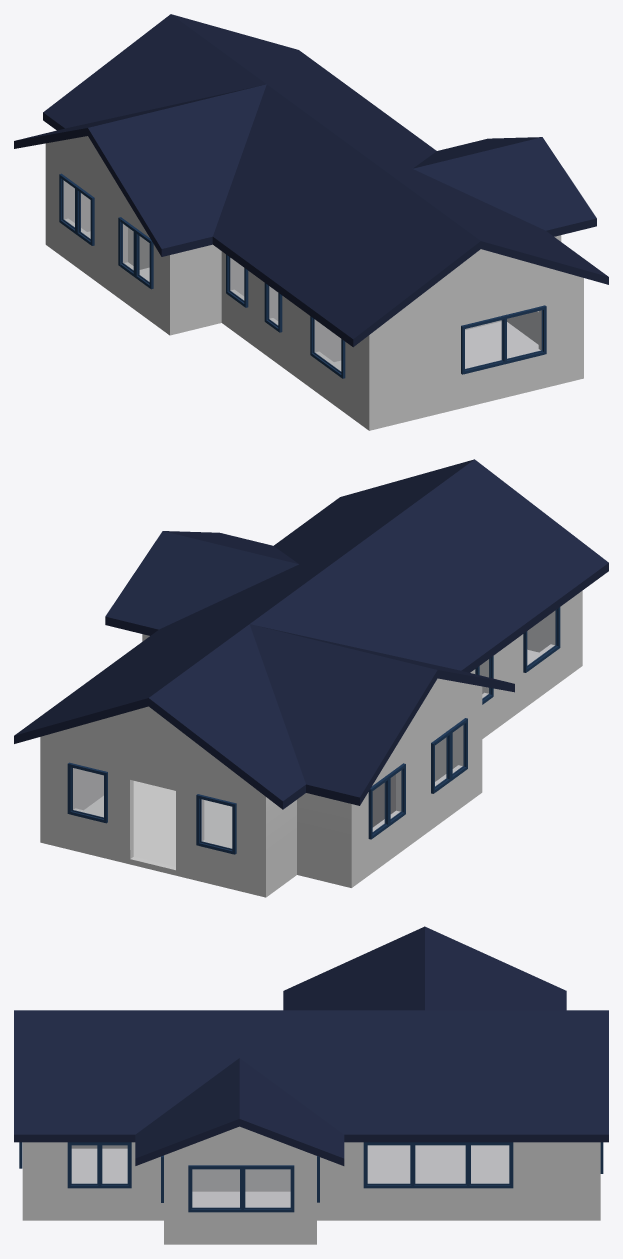
Rendered from House.fbx.
3 renders of one model, top to bottom at view 1: azimuth 30°, elevation 25°; view 2: azimuth 150°, elevation 25°; view 3: azimuth 270°, elevation 25°, orthographic. The views are drawn at different scales.
Visible parts, largest first — view 1: Roof, HouseOutside, Glass10, Glass11, Glass9, Wall3; view 2: Roof, HouseOutside, Glass1, Glass2, Glass9, Wall9, Wall1; view 3: Roof, HouseOutside, Wall7, Glass20, Glass16, Glass15, Glass19, WindowBorder1 (×2), Glass18, WindowBorder (×2), Glass13, Glass12.
Part boxes in pixels (left/top/right/bottom): Roof: left=14, top=14, right=608, bottom=347; HouseOutside: left=45, top=136, right=583, bottom=430; Glass10: left=465, top=321, right=501, bottom=368; Glass11: left=507, top=311, right=541, bottom=358; Glass9: left=314, top=319, right=340, bottom=370; Wall3: left=319, top=320, right=501, bottom=361; Roof: left=14, top=459, right=608, bottom=809; HouseOutside: left=40, top=590, right=582, bottom=897; Glass1: left=73, top=768, right=103, bottom=817; Glass2: left=201, top=800, right=231, bottom=848; Glass9: left=528, top=611, right=555, bottom=664; Wall9: left=372, top=774, right=395, bottom=827; Wall1: left=435, top=729, right=458, bottom=781; Roof: left=14, top=926, right=608, bottom=1165; HouseOutside: left=22, top=1126, right=600, bottom=1244; Wall7: left=192, top=1169, right=290, bottom=1191; Glass20: left=416, top=1146, right=464, bottom=1183; Glass16: left=193, top=1170, right=239, bottom=1206; Glass15: left=246, top=1170, right=289, bottom=1206; Glass19: left=368, top=1146, right=409, bottom=1183; WindowBorder1 (×2): left=191, top=1183, right=512, bottom=1212; Glass18: left=471, top=1146, right=508, bottom=1183; WindowBorder (×2): left=191, top=1142, right=512, bottom=1169; Glass13: left=72, top=1146, right=96, bottom=1183; Glass12: left=103, top=1146, right=126, bottom=1183.
Bounding box in the file's own units: 112 × 49.91 × 168.
